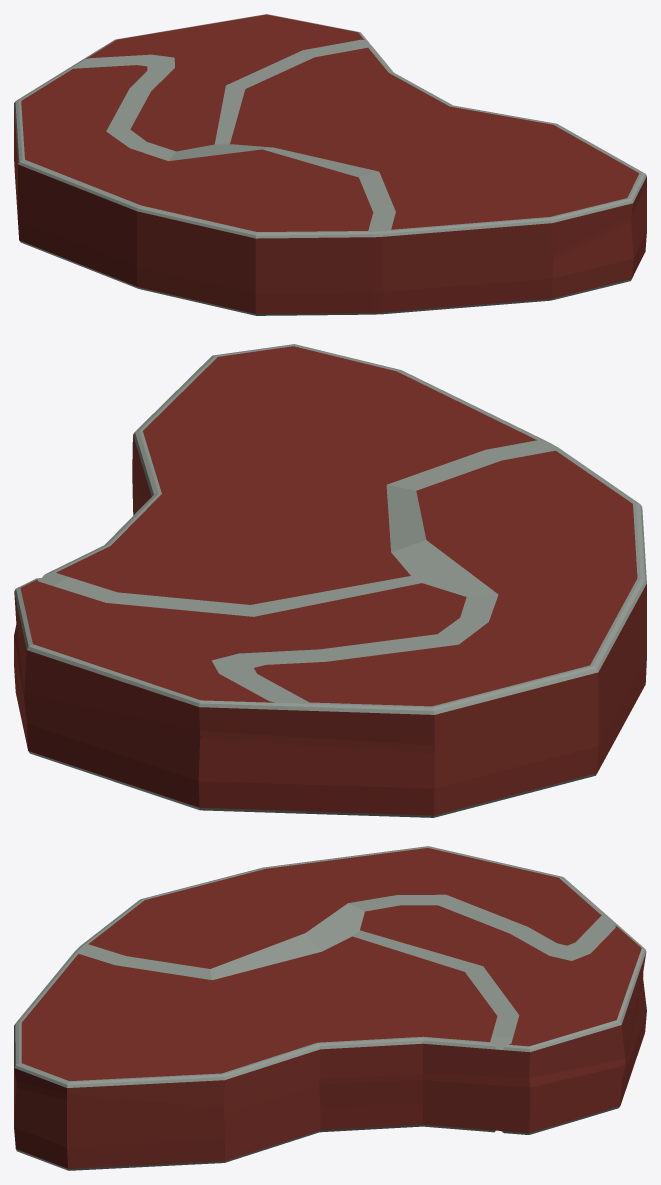
The model's file is Meat_1.fbx.
The picture shows the model from 3 angles, top to bottom: view 1: azimuth 30°, elevation 25°; view 2: azimuth 150°, elevation 25°; view 3: azimuth 270°, elevation 25°; orthographic projection. The views are drawn at different scales.
Visible parts, largest first — view 1: Meat_1; view 2: Meat_1; view 3: Meat_1.
Part boxes in pixels (x1,y1,x2,y2): Meat_1: [14, 14, 646, 315]; Meat_1: [14, 344, 646, 817]; Meat_1: [14, 846, 646, 1170].
Size of the model in its own units: 51.57 by 9.97 by 57.44.
